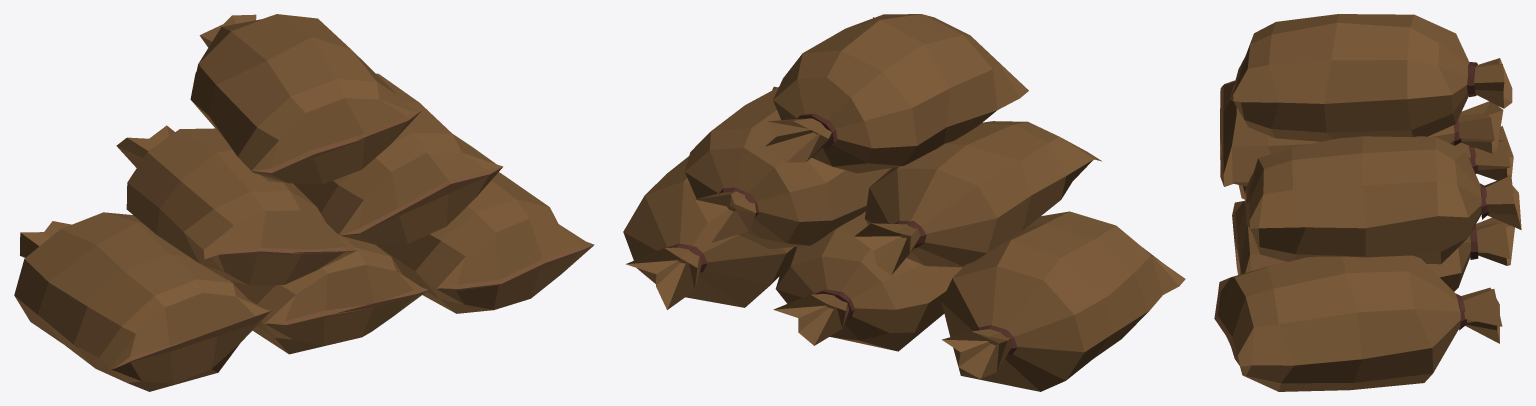
The model's file is bags_stack.fbx.
3 views of the same model, side by side, from view 1: azimuth 30°, elevation 25°; view 2: azimuth 150°, elevation 25°; view 3: azimuth 270°, elevation 25° (orthographic).
Visible parts, largest first — view 1: bags_stack; view 2: bags_stack; view 3: bags_stack.
Boxes of the visible parts, x1,y1,x2,y2 form: bags_stack: (14,14,594,391); bags_stack: (623,14,1185,391); bags_stack: (1214,14,1521,391).
Bounding box in the file's own units: 128 × 70.2 × 69.86.
